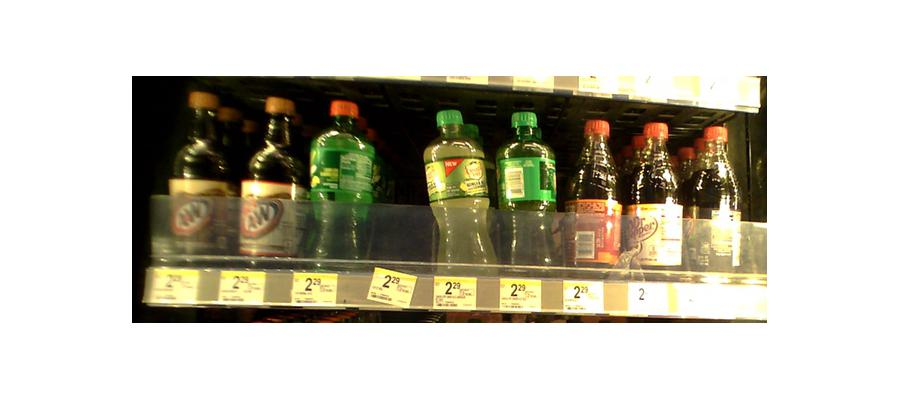bottle: (305, 98, 377, 265), (167, 92, 233, 265), (427, 109, 494, 276), (494, 113, 560, 273), (239, 100, 300, 263), (688, 120, 746, 281), (627, 119, 683, 279), (565, 116, 622, 272)
